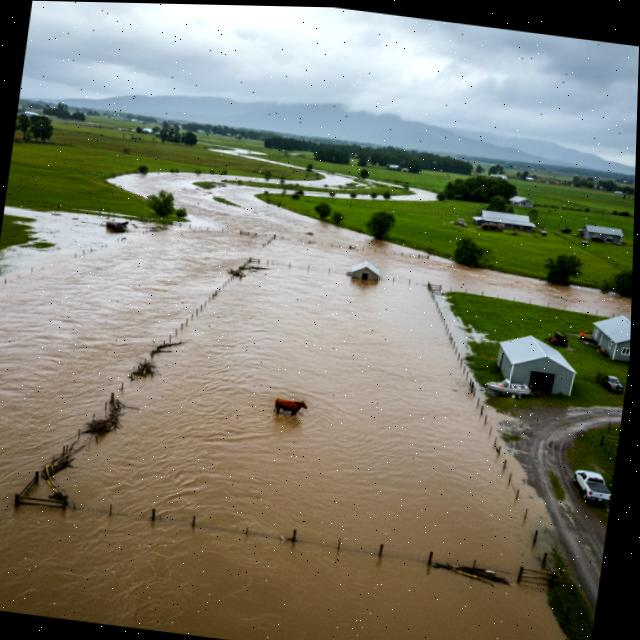cow: (266, 388, 314, 422)
